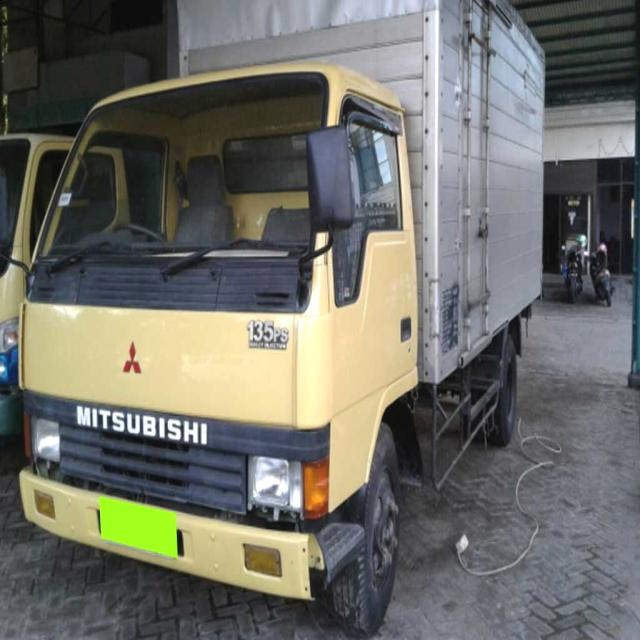truck: (12, 1, 547, 626)
